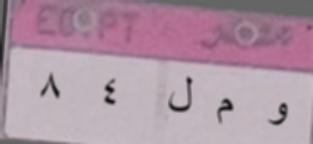4: (101, 74, 120, 110)
8: (35, 68, 63, 106)
laam: (166, 72, 197, 118)
meem: (213, 94, 235, 127)
waw: (266, 99, 292, 133)
